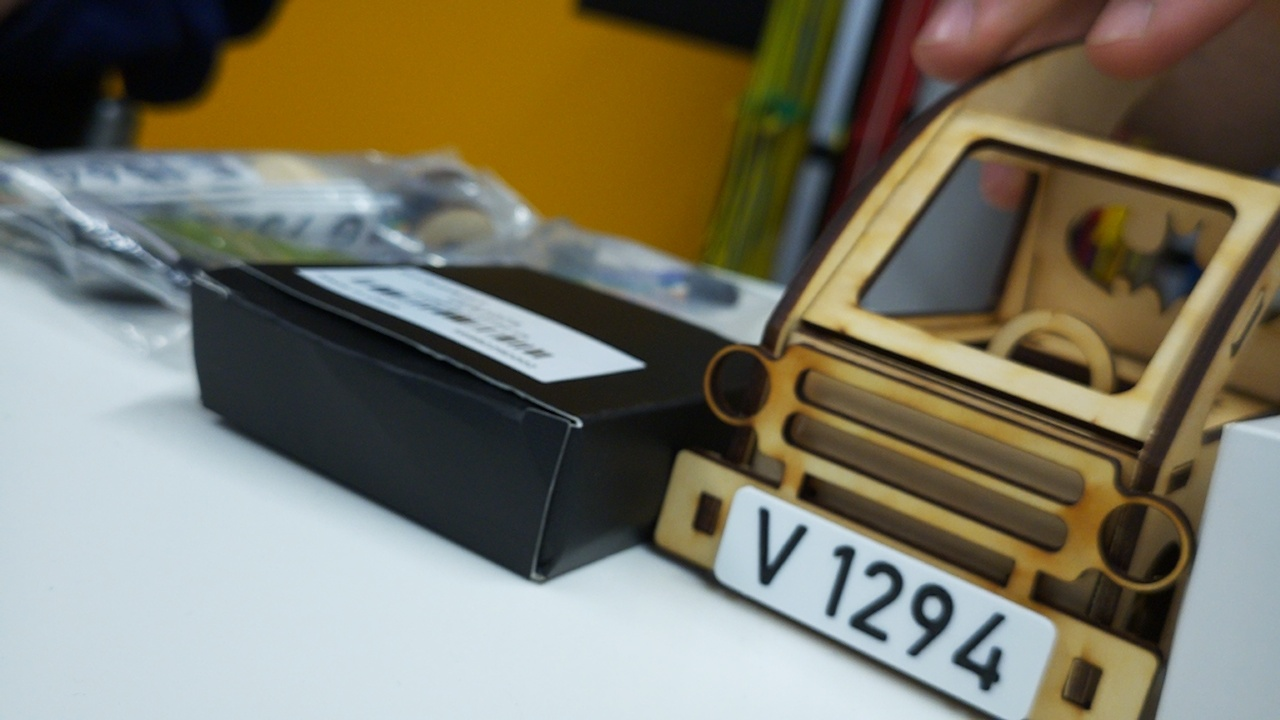license_plate: (711, 483, 1062, 720)
